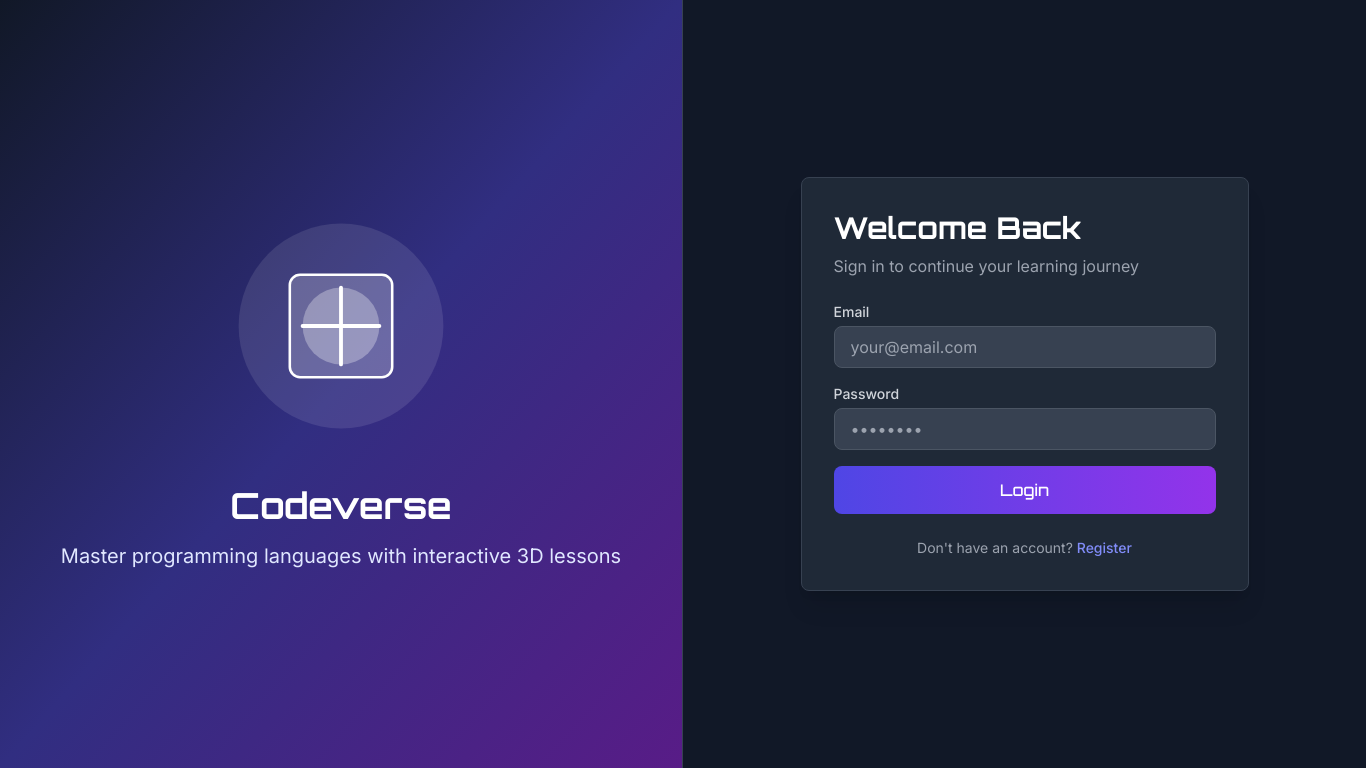
it: Login Component › should check rate limit on email change
Type "test@example.com" into the field labelled "Email" at (1024,347), box [834,326,1216,368]
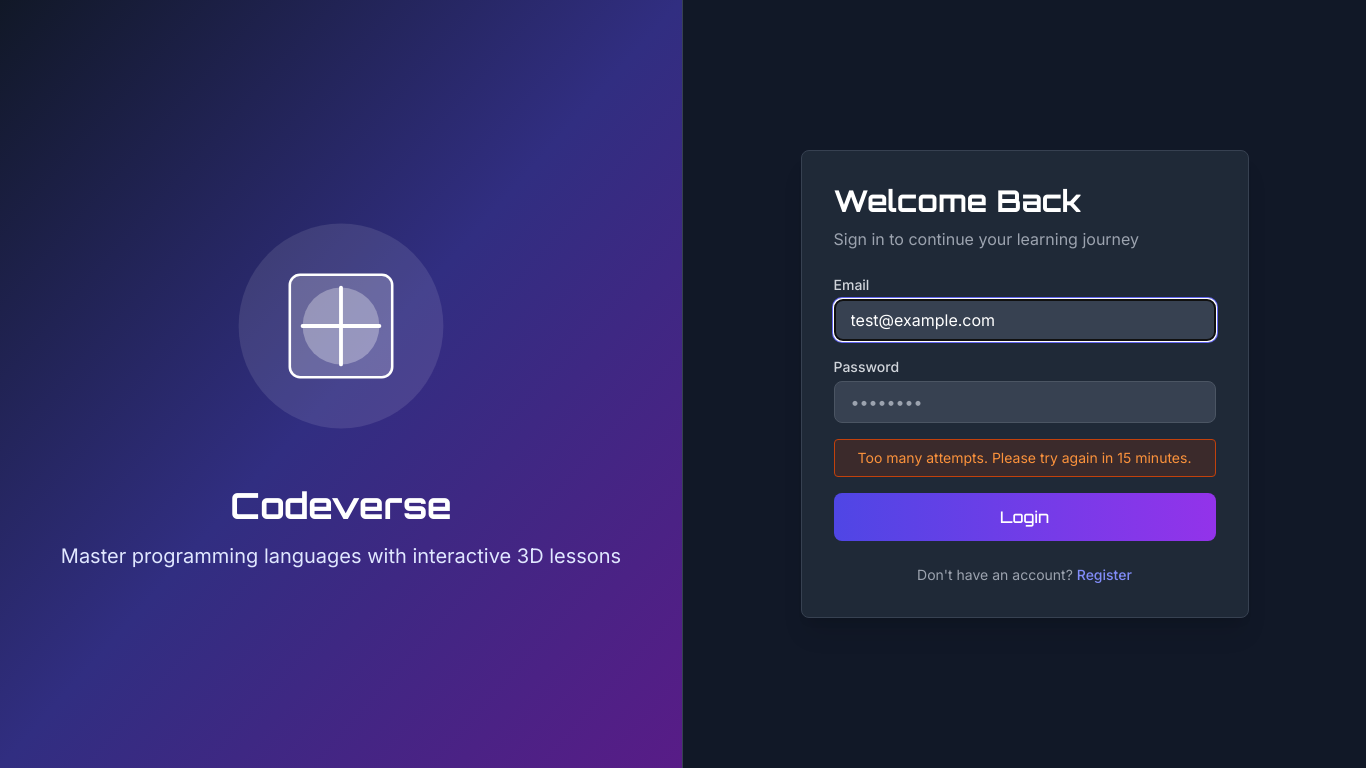
Check: the text "Too many attempts. Please try again in 15 minutes." is shown, box [834,439,1216,477]
